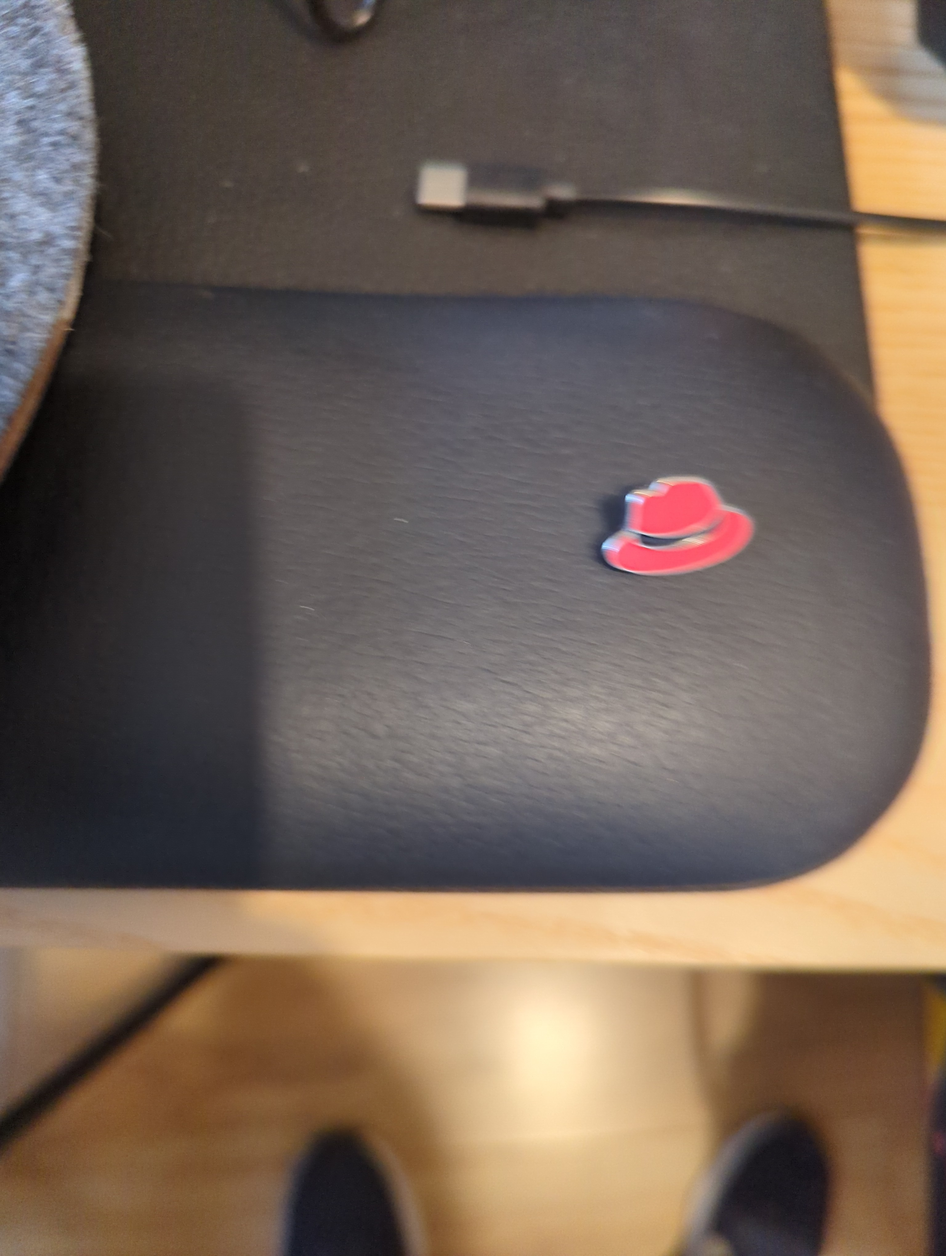Red-Hat: (527, 399, 827, 650)
